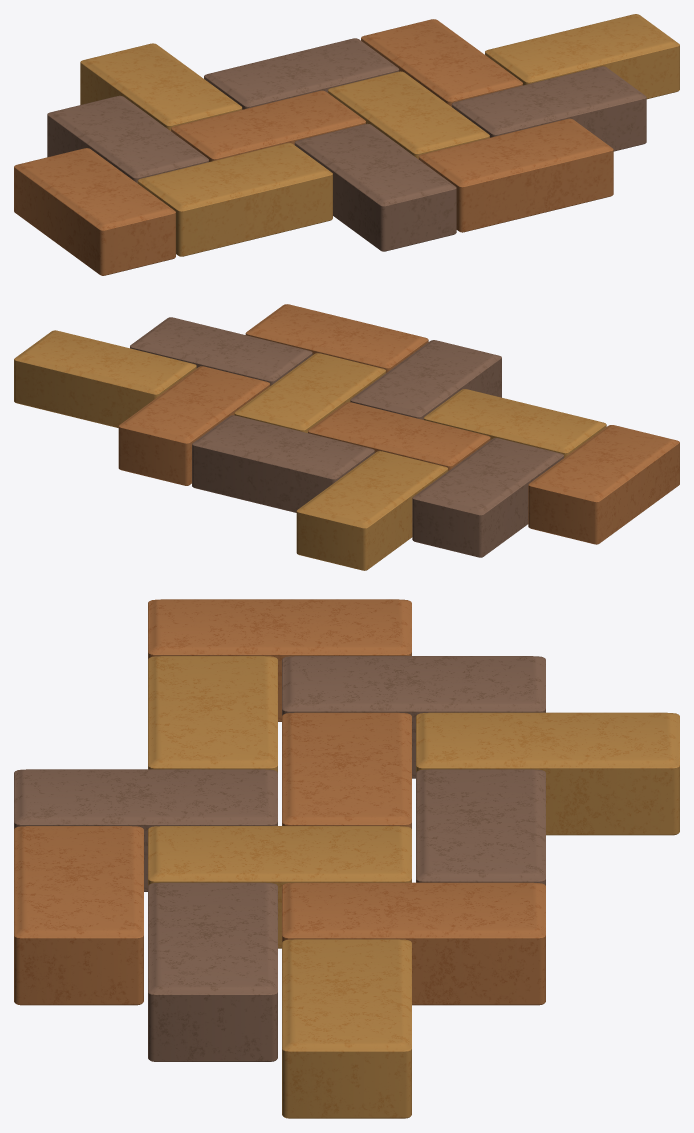
The model's file is herringbone-3.glb.
3 views of the same model, one above another, from view 1: azimuth 30°, elevation 25°; view 2: azimuth 150°, elevation 25°; view 3: azimuth 270°, elevation 25° (orthographic). The views are drawn at different scales.
Visible parts, largest first — view 1: Colonial Classic.014, Colonial Classic.022, Colonial Classic.017, Colonial Classic.021, Colonial Classic.024, Colonial Classic.026, Colonial Classic.018, Colonial Classic, Colonial Classic.020, Colonial Classic.013, Colonial Classic.025, Colonial Classic.023; view 2: Colonial Classic.014, Colonial Classic.026, Colonial Classic.020, Colonial Classic, Colonial Classic.018, Colonial Classic.025, Colonial Classic.021, Colonial Classic.024, Colonial Classic.022, Colonial Classic.017, Colonial Classic.013, Colonial Classic.023; view 3: Colonial Classic.018, Colonial Classic.025, Colonial Classic.022, Colonial Classic.026, Colonial Classic.024, Colonial Classic.014, Colonial Classic.021, Colonial Classic, Colonial Classic.023, Colonial Classic.017, Colonial Classic.020, Colonial Classic.013.
Part boxes in pixels (x1=…): Colonial Classic.014: x1=14, y1=148, x2=175, y2=275; Colonial Classic.022: x1=418, y1=118, x2=613, y2=232; Colonial Classic.017: x1=137, y1=143, x2=332, y2=256; Colonial Classic.021: x1=294, y1=123, x2=456, y2=251; Colonial Classic.024: x1=451, y1=66, x2=646, y2=151; Colonial Classic.026: x1=485, y1=14, x2=679, y2=99; Colonial Classic.018: x1=80, y1=43, x2=242, y2=130; Colonial Classic: x1=47, y1=95, x2=208, y2=183; Colonial Classic.020: x1=204, y1=38, x2=399, y2=109; Colonial Classic.013: x1=171, y1=90, x2=365, y2=161; Colonial Classic.025: x1=361, y1=19, x2=522, y2=106; Colonial Classic.023: x1=328, y1=71, x2=489, y2=158; Colonial Classic.014: x1=528, y1=425, x2=679, y2=544; Colonial Classic.026: x1=14, y1=330, x2=196, y2=427; Colonial Classic.020: x1=192, y1=415, x2=374, y2=512; Colonial Classic: x1=412, y1=438, x2=563, y2=557; Colonial Classic.018: x1=296, y1=451, x2=448, y2=570; Colonial Classic.025: x1=118, y1=366, x2=270, y2=485; Colonial Classic.021: x1=350, y1=340, x2=501, y2=419; Colonial Classic.024: x1=130, y1=317, x2=312, y2=385; Colonial Classic.022: x1=245, y1=304, x2=428, y2=372; Colonial Classic.017: x1=423, y1=389, x2=606, y2=457; Colonial Classic.013: x1=308, y1=402, x2=490, y2=470; Colonial Classic.023: x1=234, y1=353, x2=385, y2=432; Colonial Classic.018: x1=416, y1=712, x2=679, y2=835; Colonial Classic.025: x1=282, y1=882, x2=545, y2=1005; Colonial Classic.022: x1=14, y1=826, x2=143, y2=1005; Colonial Classic.026: x1=282, y1=939, x2=411, y2=1118; Colonial Classic.024: x1=148, y1=882, x2=277, y2=1061; Colonial Classic.014: x1=148, y1=599, x2=411, y2=721; Colonial Classic.021: x1=14, y1=769, x2=277, y2=891; Colonial Classic: x1=282, y1=656, x2=545, y2=778; Colonial Classic.023: x1=148, y1=826, x2=411, y2=948; Colonial Classic.017: x1=148, y1=656, x2=277, y2=772; Colonial Classic.020: x1=416, y1=769, x2=545, y2=885; Colonial Classic.013: x1=282, y1=712, x2=411, y2=828.
Size of the model in its own units: 0.8096 by 0.0603 by 0.5048.
Materials: 3 (3 with a texture image).
